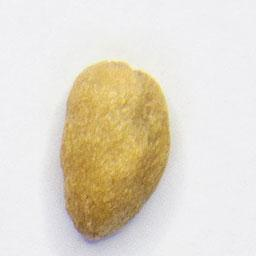defect: (54, 54, 177, 248)
